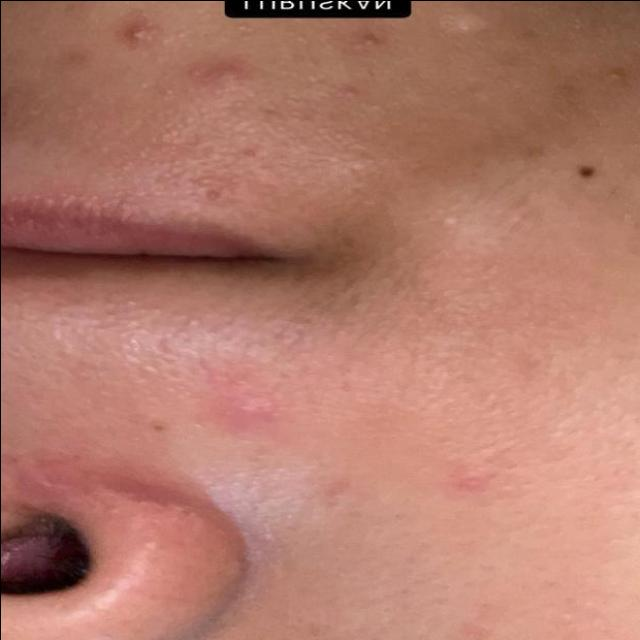papule: (183, 375, 310, 434), (193, 52, 304, 118)
pustule: (108, 7, 159, 54), (346, 20, 383, 71)
